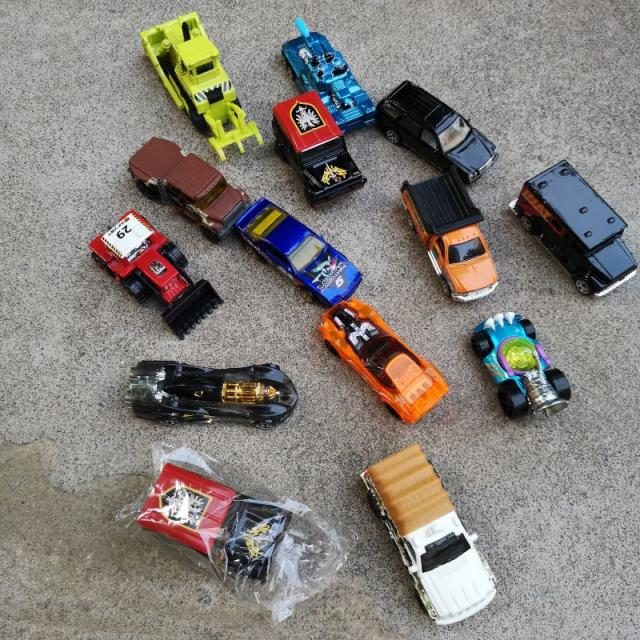Car: (358, 442, 498, 626), (508, 158, 638, 298), (88, 207, 222, 339), (318, 297, 450, 424), (399, 165, 499, 302), (374, 79, 498, 184), (124, 359, 298, 429), (471, 310, 572, 420)
